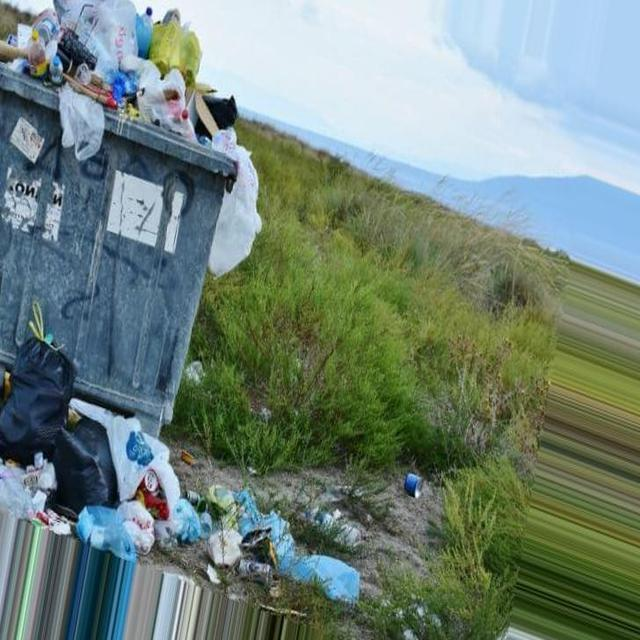garbage: (0, 344, 181, 547), (156, 472, 372, 609), (0, 0, 202, 120), (204, 82, 274, 280)
